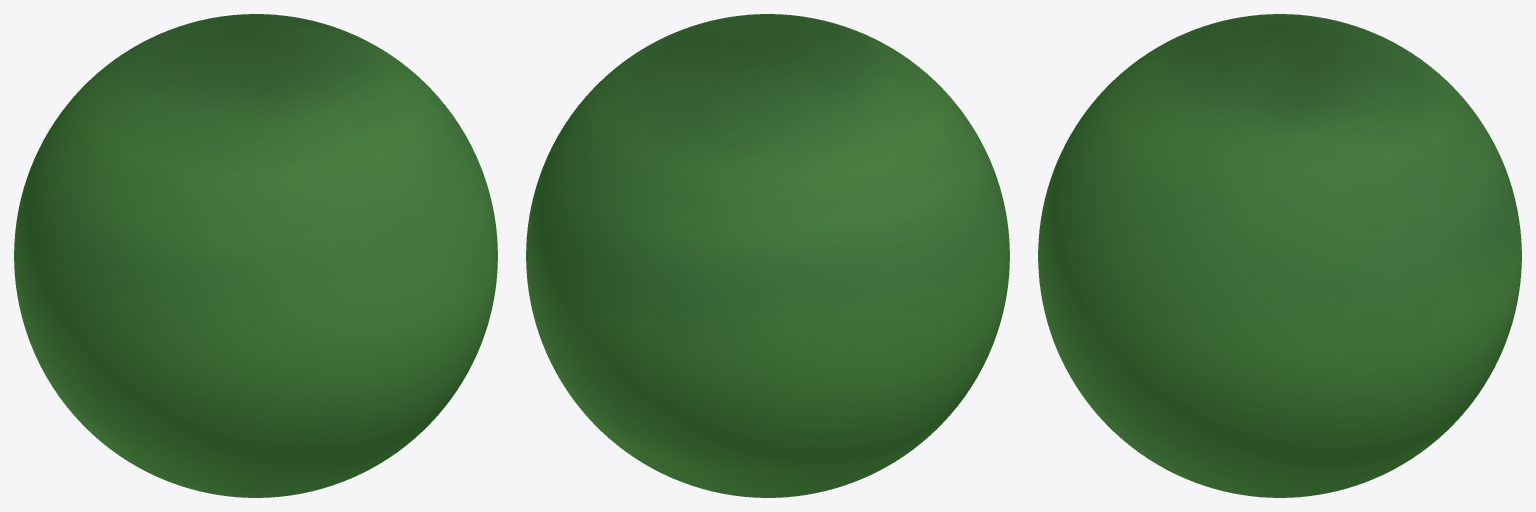
Rendered from Proxy_GD.glb.
3 renders of one model, left to right at view 1: azimuth 30°, elevation 25°; view 2: azimuth 150°, elevation 25°; view 3: azimuth 270°, elevation 25°, orthographic.
Visible parts, largest first — view 1: CloudsTopLayer_GD (1); view 2: CloudsTopLayer_GD (1); view 3: CloudsTopLayer_GD (1).
Part boxes in pixels (box(x1,y1,x2,y2)): CloudsTopLayer_GD (1): box(14, 14, 497, 497); CloudsTopLayer_GD (1): box(526, 14, 1009, 497); CloudsTopLayer_GD (1): box(1038, 14, 1521, 497).
Size of the model in its own units: 1898 by 1899 by 1898.
Materials: 1 (1 with a texture image).
